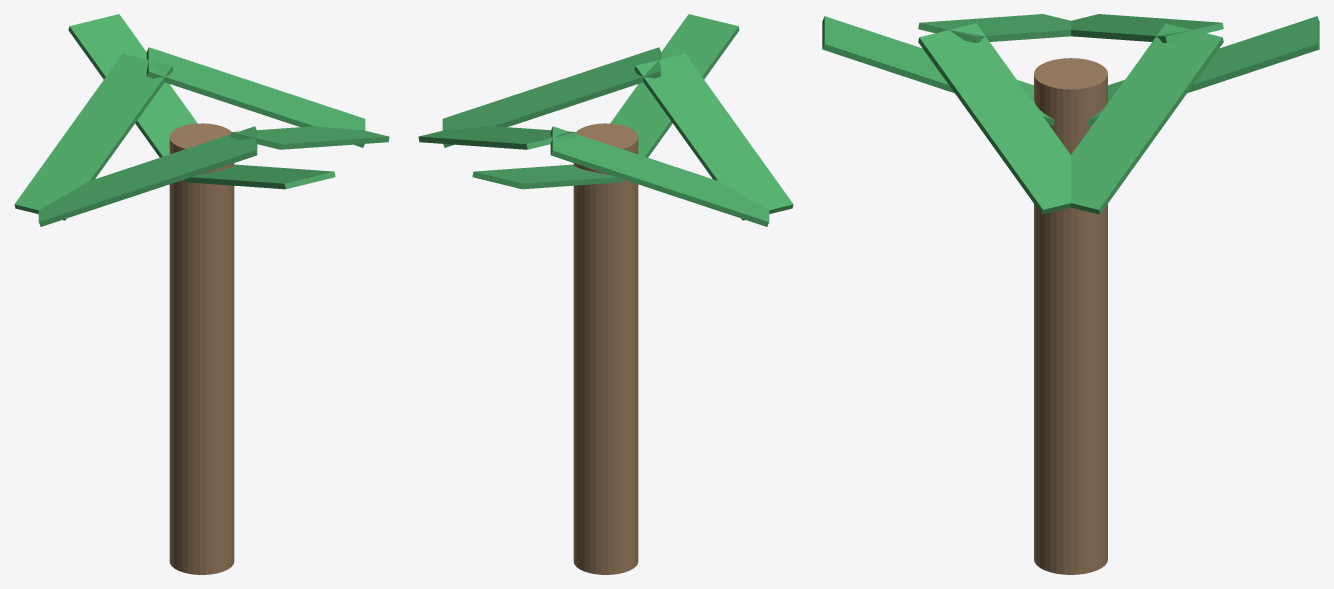
File: palm_tree.glb
3 views of the same model, side by side, from view 1: azimuth 30°, elevation 25°; view 2: azimuth 150°, elevation 25°; view 3: azimuth 270°, elevation 25° (orthographic). The views are drawn at different scales.
Parts seen in each view (by area): view 1: Cylinder, Cube.005, Cube.004, Cube.001, Cube, Cube.002, Cube.003; view 2: Cylinder, Cube.004, Cube.005, Cube.002, Cube.003, Cube.001, Cube; view 3: Cylinder, Cube.001, Cube.002, Cube, Cube.003, Cube.004, Cube.005.
Part boxes in pixels (<box>): Cylinder: <box>169,123,234,574</box>; Cube.005: <box>14,53,173,220</box>; Cube.004: <box>38,126,257,226</box>; Cube.001: <box>146,47,365,147</box>; Cube: <box>68,14,197,157</box>; Cube.002: <box>230,126,389,149</box>; Cube.003: <box>184,164,335,189</box>; Cylinder: <box>573,123,638,574</box>; Cube.004: <box>634,53,793,220</box>; Cube.005: <box>550,126,769,226</box>; Cube.002: <box>442,47,661,147</box>; Cube.003: <box>610,14,739,157</box>; Cube.001: <box>418,126,577,149</box>; Cube: <box>472,164,623,189</box>; Cylinder: <box>1034,58,1107,574</box>; Cube.001: <box>1071,23,1223,214</box>; Cube.002: <box>918,23,1070,214</box>; Cube: <box>1087,16,1319,125</box>; Cube.003: <box>822,16,1054,125</box>; Cube.004: <box>918,14,1070,42</box>; Cube.005: <box>1071,14,1223,42</box>.
Bounding box in the file's own units: 5.63 × 7.09 × 6.03.
